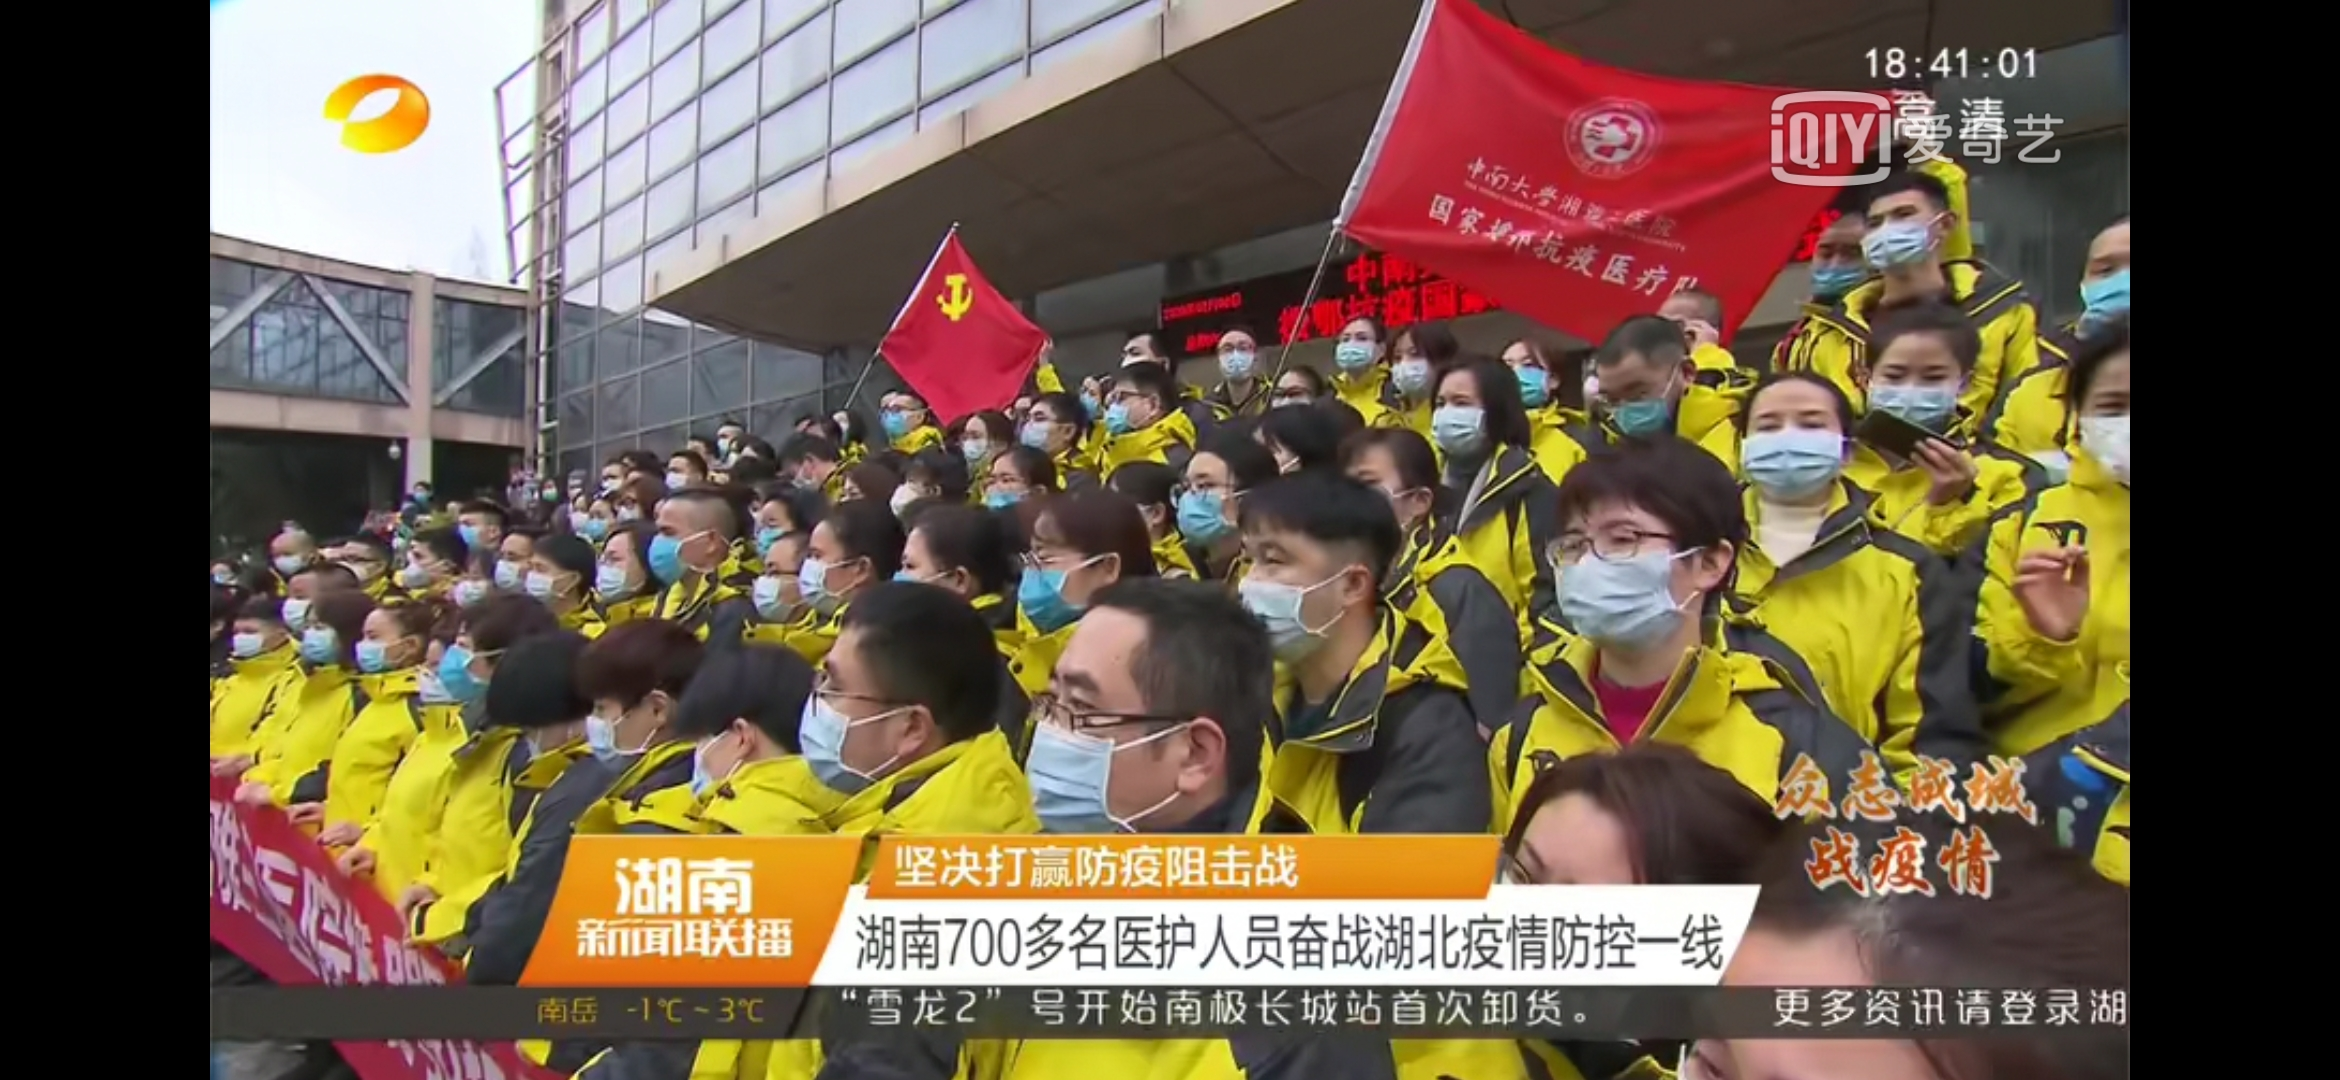correctlyWear: (1022, 621, 1227, 837), (1545, 506, 1728, 665), (800, 653, 949, 806), (1237, 530, 1374, 665), (1745, 386, 1845, 518), (1865, 343, 1968, 449), (1016, 541, 1125, 632), (2073, 370, 2133, 507), (1867, 204, 1959, 289), (1595, 354, 1688, 439), (692, 694, 760, 803), (585, 692, 675, 773), (648, 506, 722, 595), (2068, 230, 2136, 327), (1176, 453, 1239, 549), (798, 541, 873, 615), (1430, 383, 1492, 470), (1806, 225, 1865, 307), (440, 630, 500, 709), (751, 559, 806, 630), (1507, 342, 1560, 412), (355, 616, 418, 674), (595, 539, 646, 600), (527, 550, 579, 609), (1386, 345, 1436, 403), (1331, 321, 1382, 374), (1104, 388, 1163, 433), (1019, 406, 1076, 450), (888, 473, 940, 521), (301, 615, 342, 671), (982, 467, 1039, 506), (231, 619, 281, 659), (1213, 337, 1257, 382), (877, 401, 928, 439), (751, 510, 792, 555), (401, 549, 448, 588), (279, 580, 310, 635), (494, 537, 525, 589), (960, 422, 997, 465), (275, 540, 319, 574), (342, 547, 381, 579), (458, 512, 488, 549), (1076, 380, 1104, 419), (663, 462, 698, 492), (586, 503, 612, 540), (413, 483, 428, 504), (543, 479, 557, 501)
